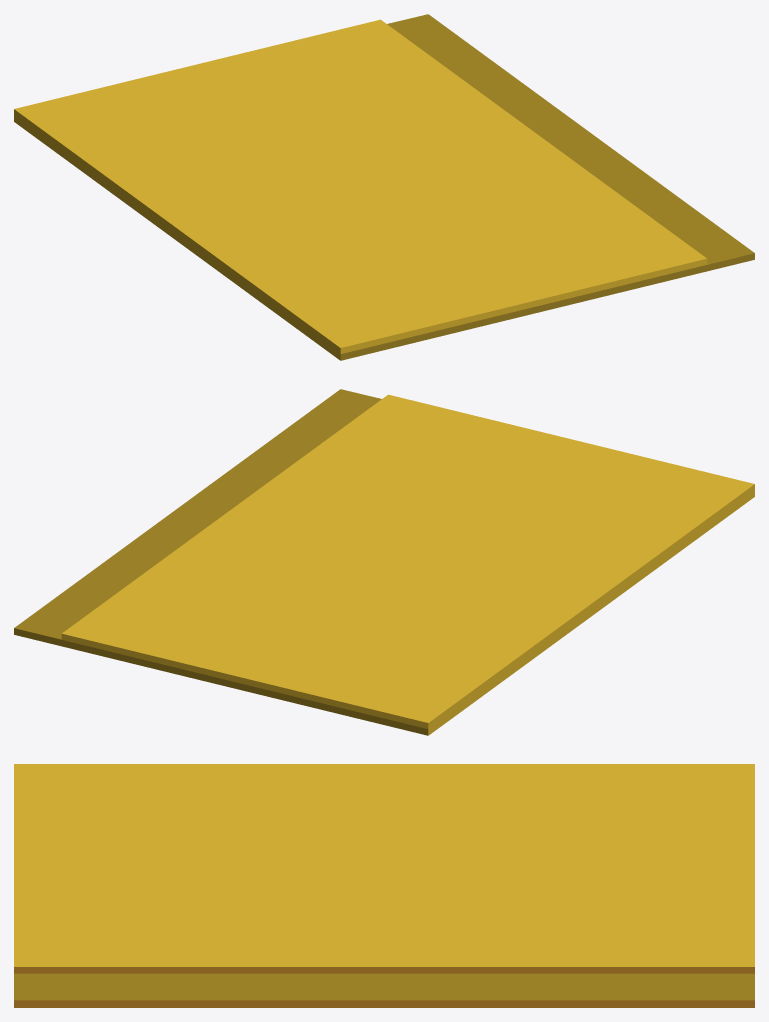
File: folder.fbx
3 views of the same model, one above another, from view 1: azimuth 30°, elevation 25°; view 2: azimuth 150°, elevation 25°; view 3: azimuth 270°, elevation 25° (orthographic). The views are drawn at different scales.
Parts seen in each view (by area): view 1: Plane; view 2: Plane; view 3: Plane.
Part boxes in pixels (left/top/right/bottom): Plane: left=14, top=14, right=754, bottom=360; Plane: left=14, top=389, right=754, bottom=735; Plane: left=14, top=764, right=754, bottom=1007.
Size of the model in its own units: 27.69 by 0.8152 by 37.8.
